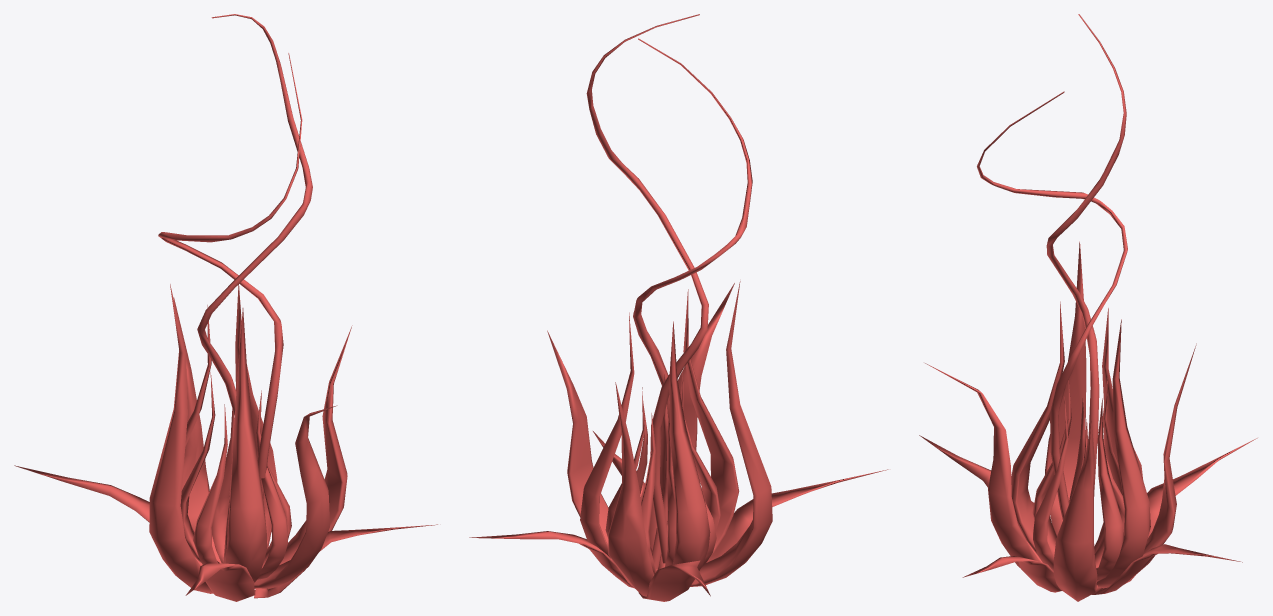
Rendered from plant2-lod1.fbx.
3 views of the same model, side by side, from view 1: azimuth 30°, elevation 25°; view 2: azimuth 150°, elevation 25°; view 3: azimuth 270°, elevation 25° (orthographic). The views are drawn at different scales.
Parts seen in each view (by area): view 1: plant2-lod1; view 2: plant2-lod1; view 3: plant2-lod1.
Part boxes in pixels (<box>): plant2-lod1: <box>14,14,437,601</box>; plant2-lod1: <box>469,14,888,601</box>; plant2-lod1: <box>919,14,1257,601</box>.
Size of the model in its own units: 1.49 by 2.98 by 1.64.
